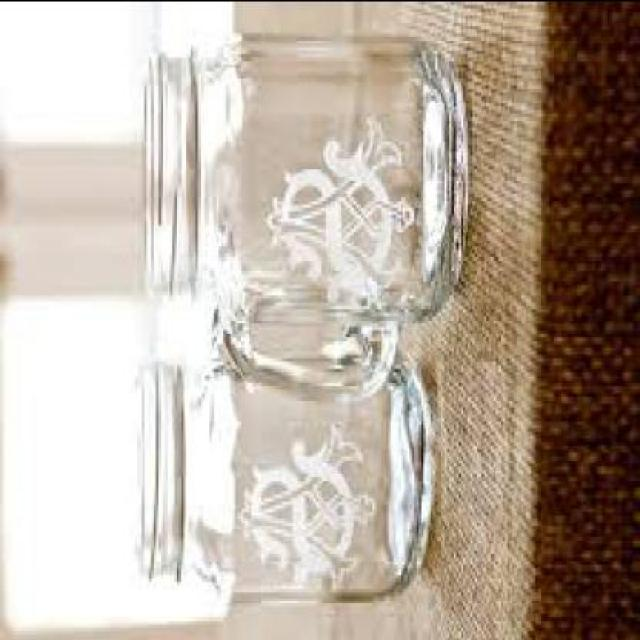GLASS: (142, 29, 470, 392), (135, 336, 431, 595)
